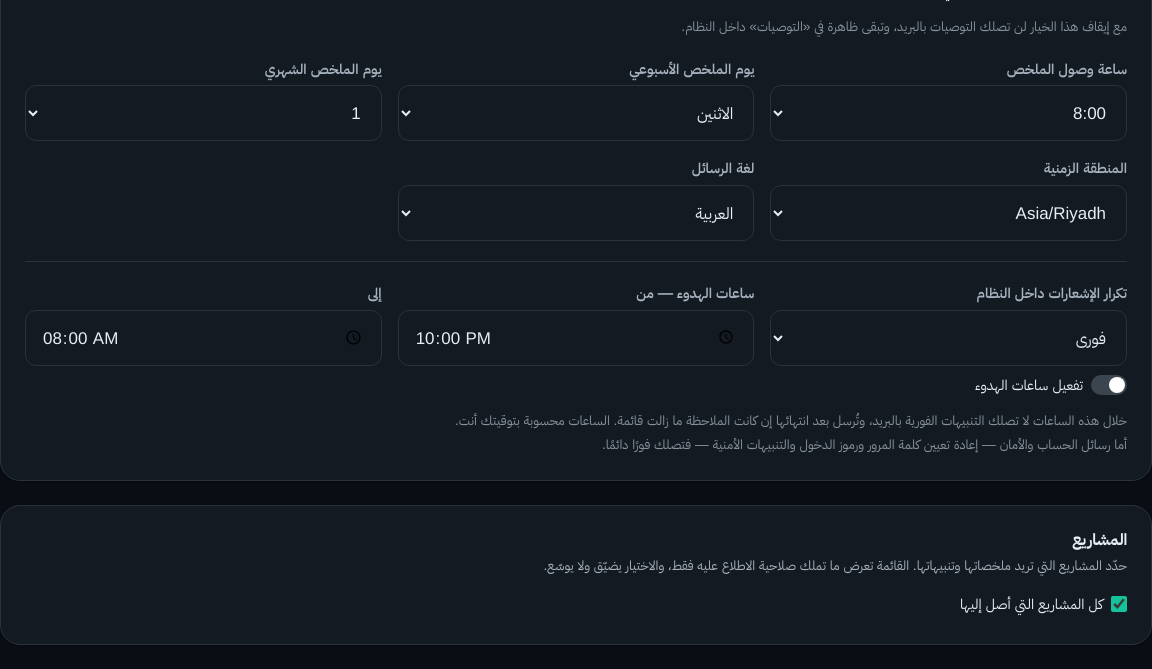
Test case: the notification preferences centre › names the client beside each project
(page scrolled)
Click the checkbox labelled "كل المشاريع التي أصل إليها".
click(1119, 604)  # box [1111,596,1127,612]
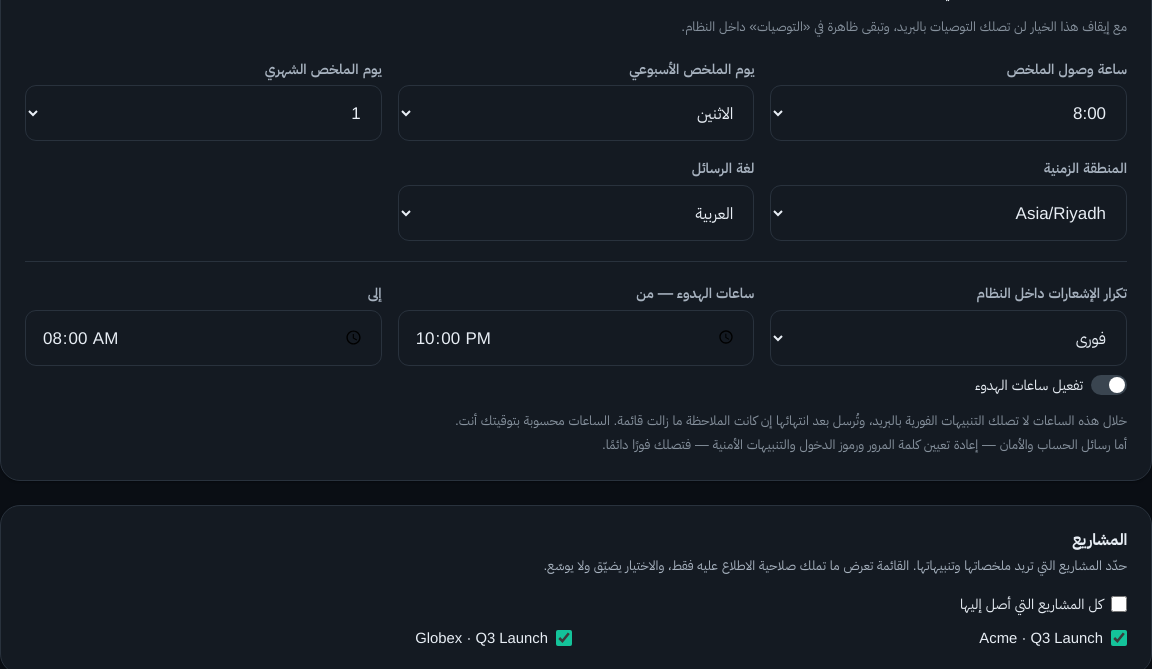
Expected: the checkbox labelled "Acme · Q3 Launch" is shown, [1111,630,1127,646]
Expected: the checkbox labelled "Globex · Q3 Launch" is shown, [556,630,572,646]
